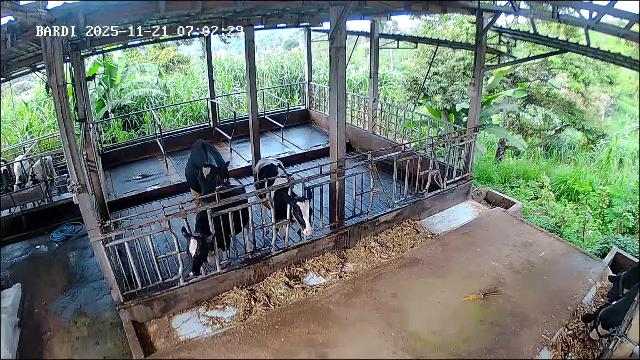mounting: (183, 141, 231, 223)
